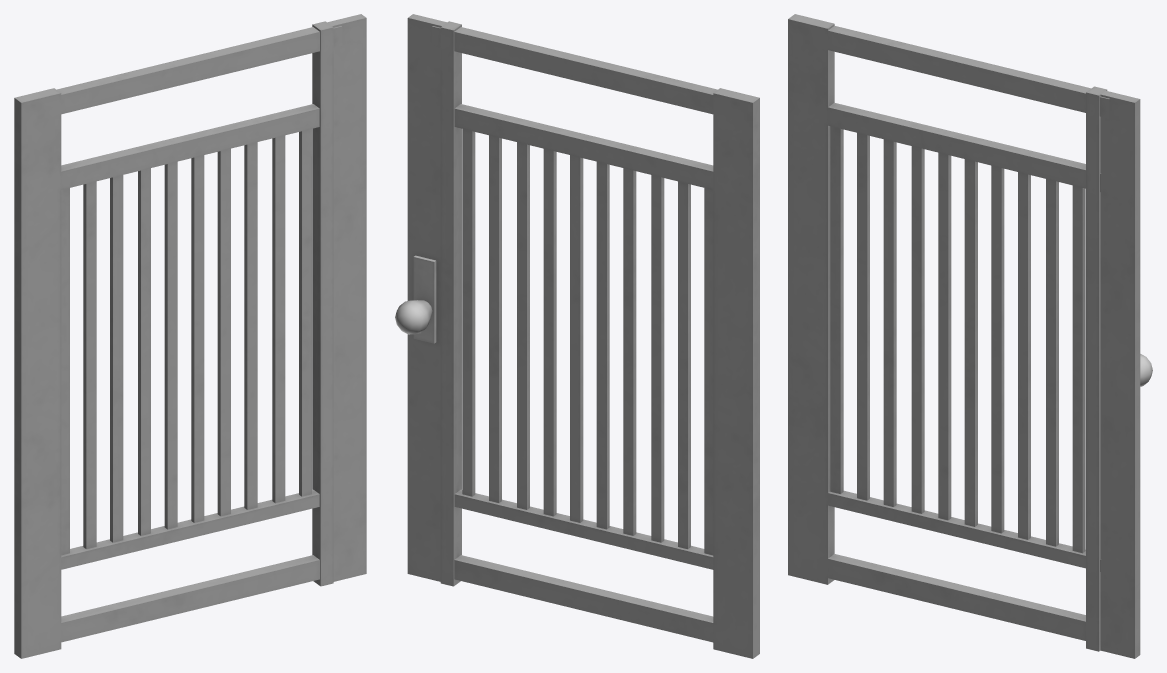
File: anime-entrance-fence.glb
The picture shows the model from 3 angles, left to right: view 1: azimuth 30°, elevation 25°; view 2: azimuth 150°, elevation 25°; view 3: azimuth 330°, elevation 25°; orthographic projection.
Visible parts, largest first — view 1: anime-entrance-fence; view 2: anime-entrance-fence; view 3: anime-entrance-fence.
Part boxes in pixels (x1,y1,x2,y2): anime-entrance-fence: (14, 14, 366, 658); anime-entrance-fence: (395, 14, 759, 658); anime-entrance-fence: (788, 14, 1152, 658).
Size of the model in its own units: 0.8845 by 1.36 by 0.1275.
1 material, 1 textured.
